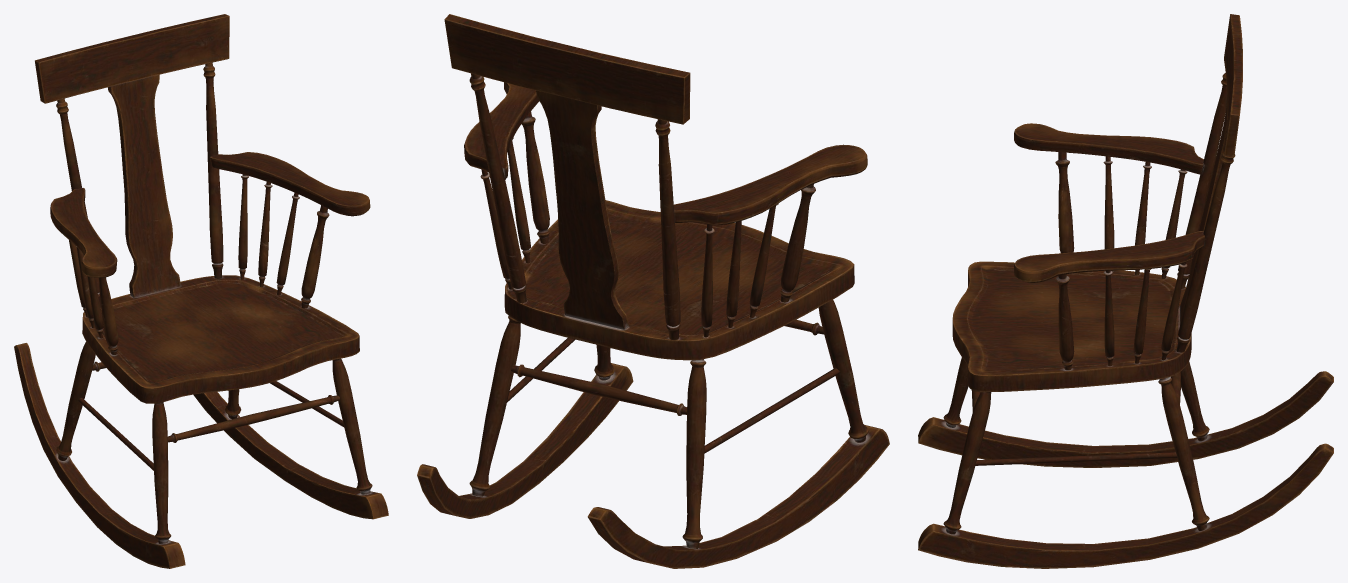
The picture shows the model from 3 angles, left to right: view 1: azimuth 30°, elevation 25°; view 2: azimuth 150°, elevation 25°; view 3: azimuth 270°, elevation 25°; orthographic projection. The views are drawn at different scales.
Parts seen in each view (by area): view 1: Rockingchair_01; view 2: Rockingchair_01; view 3: Rockingchair_01.
Boxes of the visible parts, x1,y1,x2,y2 form: Rockingchair_01: (14,14,388,568); Rockingchair_01: (417,14,889,568); Rockingchair_01: (918,14,1333,568).
Bounding box in the file's own units: 0.7081 × 0.9949 × 0.8337.
1 material, 1 textured.
